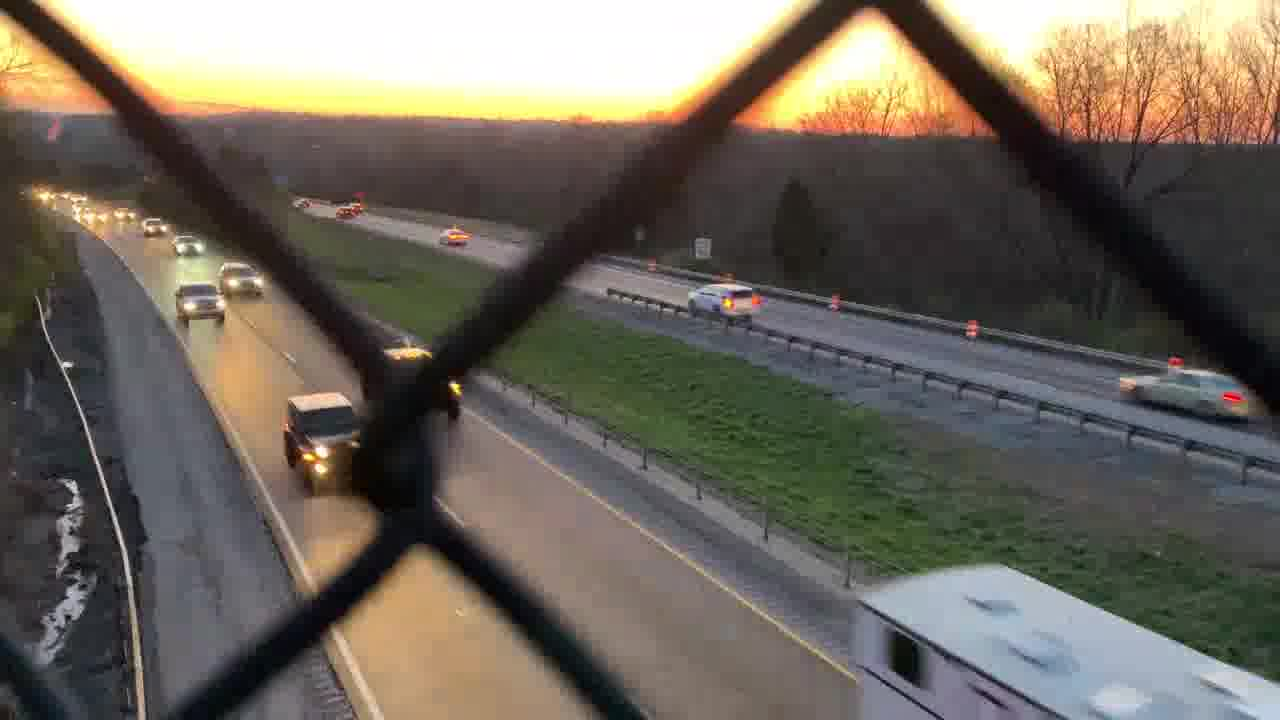largeCar: (280, 395, 376, 487), (684, 278, 762, 321)
smallCar: (1114, 354, 1261, 426)
